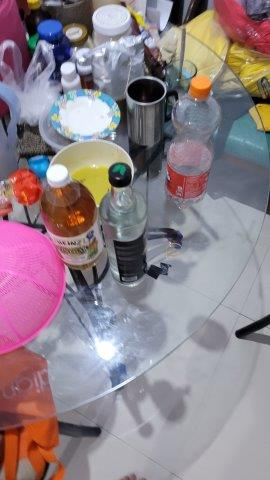botolkaca: (97, 161, 152, 287)
